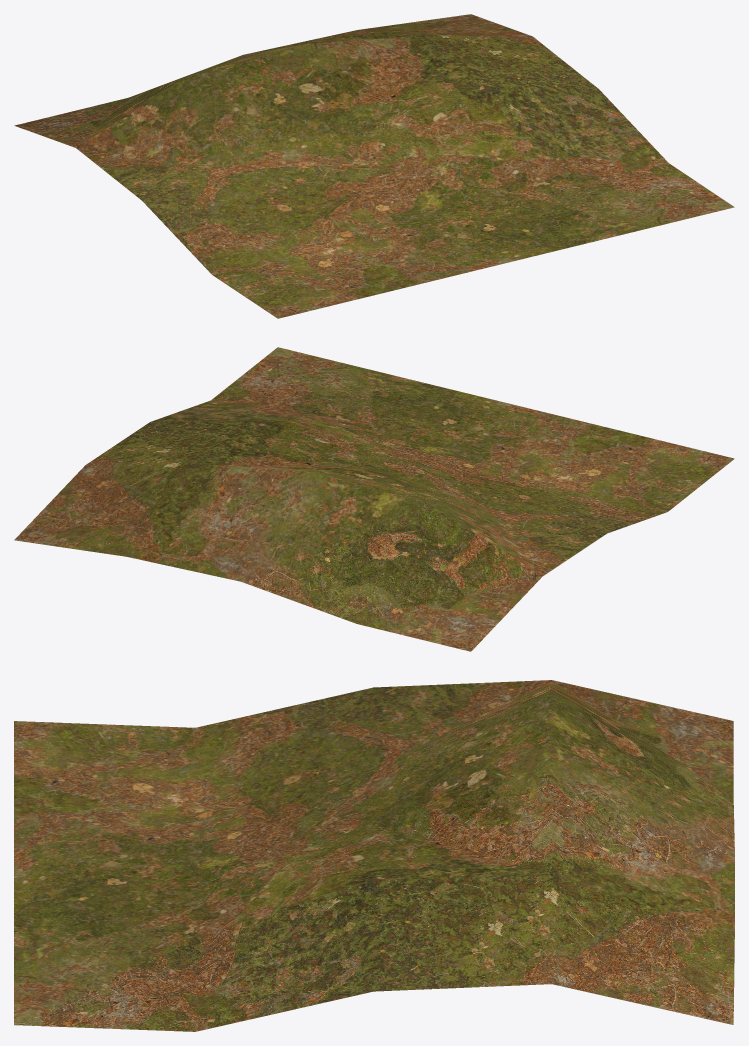
File: Grass 1.fbx
The picture shows the model from 3 angles, top to bottom: view 1: azimuth 30°, elevation 25°; view 2: azimuth 150°, elevation 25°; view 3: azimuth 270°, elevation 25°; orthographic projection. The views are drawn at different scales.
Visible parts, largest first — view 1: Grass 1.001; view 2: Grass 1.001; view 3: Grass 1.001.
Part boxes in pixels (bbox=[...]): Grass 1.001: bbox=[14, 14, 734, 318]; Grass 1.001: bbox=[14, 347, 734, 651]; Grass 1.001: bbox=[14, 680, 734, 1031].
Size of the model in its own units: 18.03 by 18.21 by 3.01.
1 material, 1 textured.
